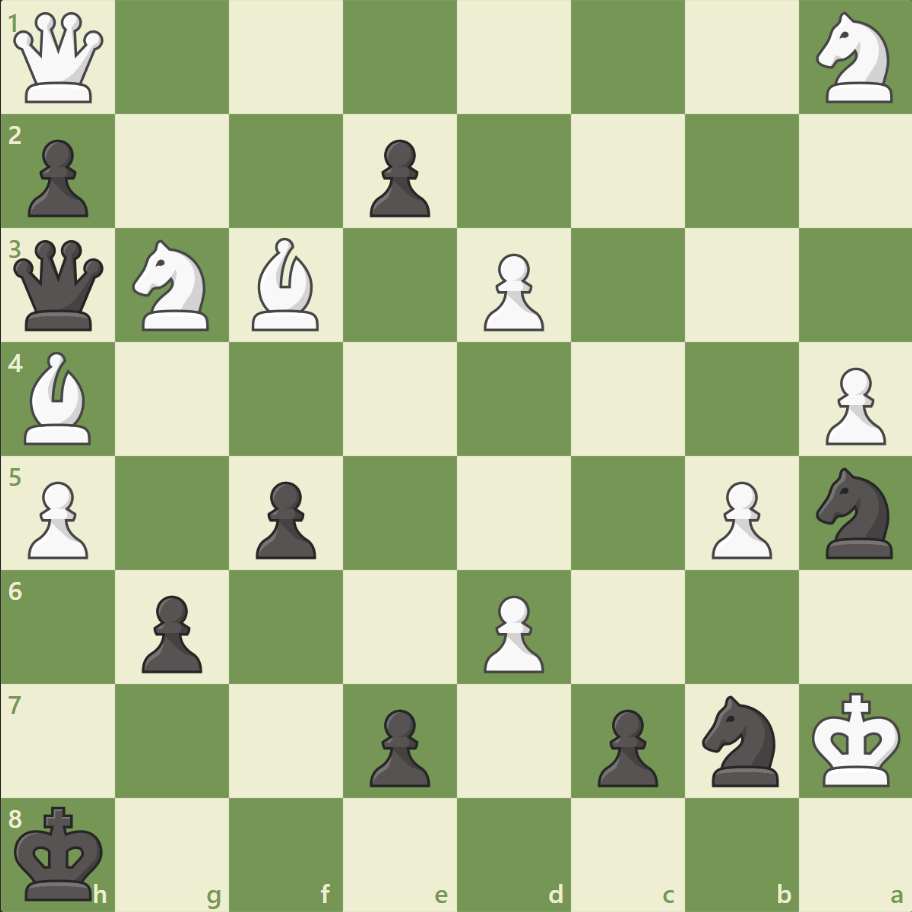B: (244, 233, 328, 336), (17, 347, 101, 449)
K: (806, 685, 906, 793)
N: (124, 234, 222, 337), (806, 7, 903, 110)
P: (474, 586, 549, 677), (701, 473, 776, 564), (20, 473, 95, 564), (474, 246, 549, 337), (815, 359, 889, 450)
Q: (10, 9, 109, 108)
k: (11, 798, 111, 906)
n: (692, 688, 789, 791), (806, 461, 903, 564)
p: (133, 586, 208, 677), (247, 473, 322, 564), (20, 132, 95, 223), (588, 700, 662, 791), (361, 700, 435, 791), (361, 132, 435, 223)
q: (10, 236, 109, 335)
